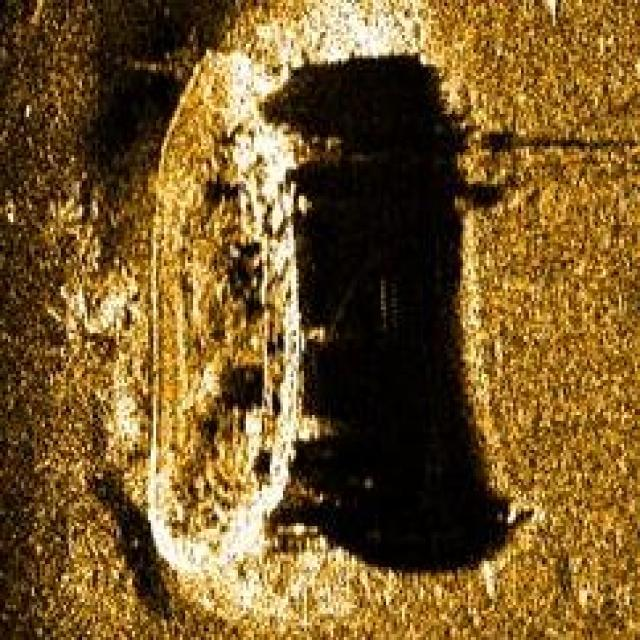shipwreck: (148, 41, 315, 567)
